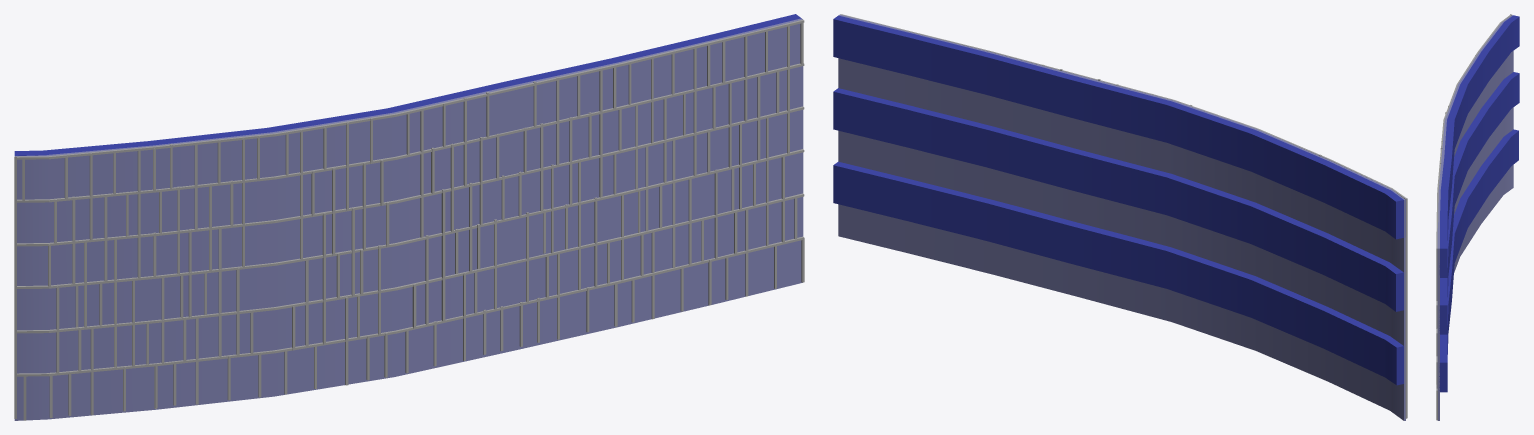
Rendered from GlassWall2.fbx.
The picture shows the model from 3 angles, left to right: view 1: azimuth 30°, elevation 25°; view 2: azimuth 150°, elevation 25°; view 3: azimuth 270°, elevation 25°; orthographic projection. The views are drawn at different scales.
Visible parts, largest first — view 1: pCube14, pCube57; view 2: pCube57, pCube14; view 3: pCube57, pCube14.
Part boxes in pixels (x1,y1,x2,y2): pCube14: [14, 18, 803, 420]; pCube57: [14, 14, 804, 420]; pCube57: [833, 14, 1407, 418]; pCube14: [838, 14, 1405, 420]; pCube57: [1436, 14, 1519, 420]; pCube14: [1437, 15, 1513, 420].
Size of the model in its own units: 17.46 by 6.04 by 2.63.
